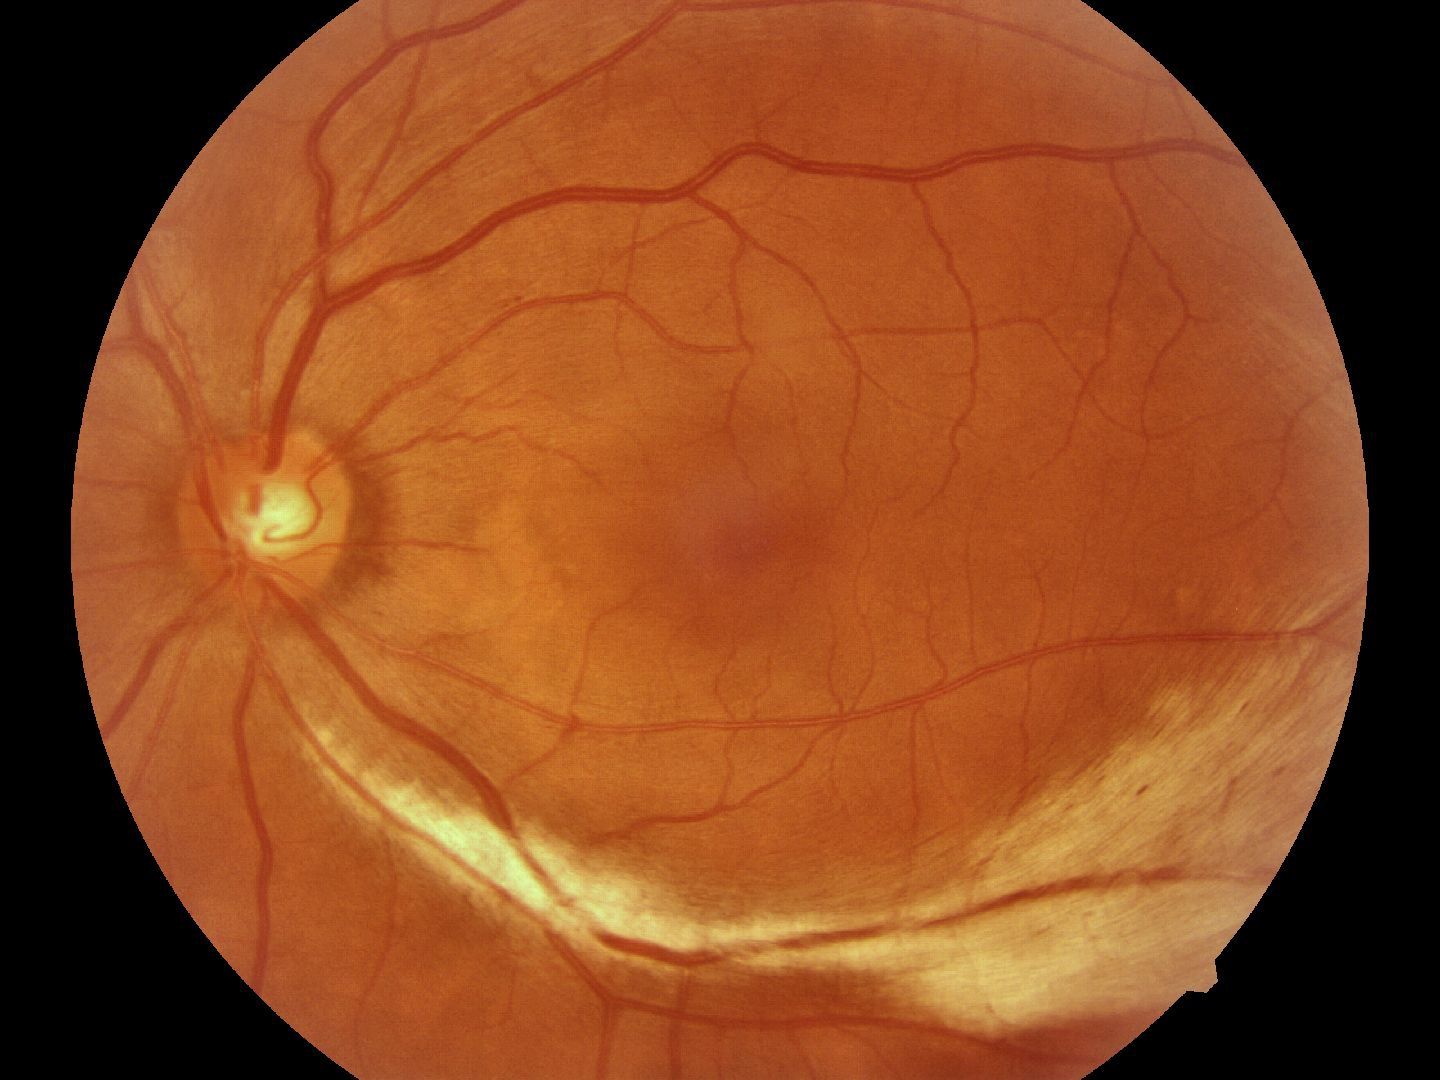Exudates: (536, 845, 1177, 1013)
Optic-Disc: (172, 416, 362, 611)
Venules: (296, 112, 681, 306)
